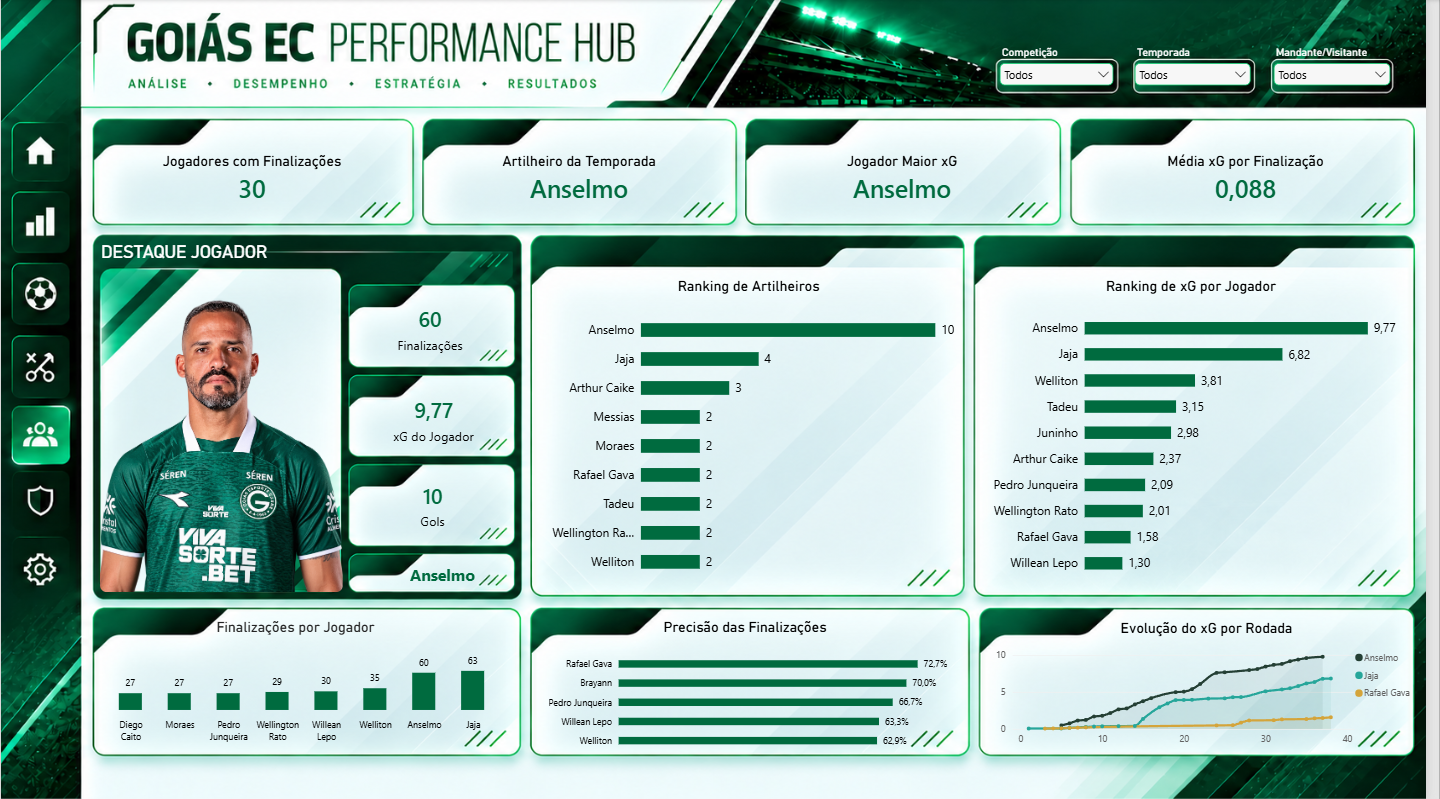

The page's visual inventory and layout, read from the dashboard file:
{"tool":"powerbi","page":{"name":"Análise Individual de Jogadores","canvas":[1920,1080],"ordinal":4},"visuals":[{"type":"cardVisual","fields":{"Data":["Medidas.Jogadores com Finalizações"]},"box":[126.8,176.6,423.8,131.6],"z":0},{"type":"cardVisual","fields":{"Data":["Medidas.Artilheiro da Temporada"]},"box":[566.7,176.6,423.8,131.6],"z":1000},{"type":"cardVisual","fields":{"Data":["Medidas.Jogador Maior xG"]},"box":[1001.7,176.6,423.8,131.6],"z":2000},{"type":"cardVisual","fields":{"Data":["Medidas.Média xG por Finalização"]},"box":[1444.8,176.6,462.3,131.6],"z":3000},{"type":"clusteredBarChart","title":"Ranking de Artilheiros","fields":{"Category":["fato_finalizacoes_2025.jogador"],"Y":["Medidas.Gols por Jogador"]},"box":[713.5,360.5,586.5,438.9],"z":4000},{"type":"clusteredBarChart","title":"Ranking de xG por Jogador","fields":{"Category":["fato_finalizacoes_2025.jogador"],"Y":["Medidas.xG por Jogador"]},"box":[1310,361.2,584.3,438.3],"z":5000},{"type":"card","fields":{"Values":["Medidas.Finalizações Anselmo"]},"box":[460,387.3,234.5,110.4],"z":6000},{"type":"textbox","box":[134.7,327.2,360.9,36.4],"z":8000},{"type":"clusteredColumnChart","title":"Finalizações por Jogador","fields":{"Category":["fato_finalizacoes_2025.jogador"],"Y":["Medidas.Finalizações por Jogador"]},"box":[98.3,820.1,596.6,199.3],"z":9000},{"type":"clusteredBarChart","title":"Precisão das Finalizações","fields":{"Category":["fato_finalizacoes_2025.jogador"],"Y":["Medidas.Precisão Jogador (Mín. 10)"]},"box":[713.6,819.9,576.6,211],"z":10000},{"type":"card","fields":{"Values":["Medidas.xG Anselmo"]},"box":[470.5,509.9,225.4,110.4],"z":11000},{"type":"card","fields":{"Values":["Medidas.Gols Anselmo"]},"box":[469,620.3,225.4,119.5],"z":12000},{"type":"lineChart","title":"Evolução do xG por Rodada","fields":{"Category":["fato_finalizacoes_2025.rodada"],"Series":["fato_finalizacoes_2025.jogador"],"Y":["Medidas.xG Acumulado por Jogador"]},"box":[1339.9,836.3,566.9,173.7],"z":13000},{"type":"textbox","box":[550.5,761.4,113.7,36.3],"z":17000},{"type":"actionButton","box":[20.9,370.8,59.3,48.5],"z":17001},{"type":"actionButton","title":"BTN_Performance_Coletiva","box":[25.6,277.4,59.3,55.2],"z":17002},{"type":"actionButton","title":"BTN_Home","box":[29.6,179.1,51.2,66],"z":17003},{"type":"slicer","fields":{"Values":["fato_partida_clube.temporada"]},"box":[1521.7,63.3,165.6,68.7],"z":17004},{"type":"slicer","fields":{"Values":["fato_partida_clube.mando"]},"box":[1708.9,63.3,167,75.4],"z":17005},{"type":"slicer","fields":{"Values":["fato_partida_clube.Competicao Exibicao"]},"box":[1339.9,63.3,162.9,113.1],"z":17006},{"type":"image","box":[134.6,362.8,325,436.9],"z":17007}]}

Visuals, with their boxes on the page's 1920x1080 design canvas (x1, y1, x2, y2). These are canvas units, not pixel positions in the 1440x799 screenshot, which may show the page scaled, cropped or inside an application window:
cardVisual - Medidas.Jogadores com Finalizações: x1=127 y1=177 x2=551 y2=308
cardVisual - Medidas.Artilheiro da Temporada: x1=567 y1=177 x2=990 y2=308
cardVisual - Medidas.Jogador Maior xG: x1=1002 y1=177 x2=1426 y2=308
cardVisual - Medidas.Média xG por Finalização: x1=1445 y1=177 x2=1907 y2=308
"Ranking de Artilheiros" clusteredBarChart: x1=714 y1=360 x2=1300 y2=799
"Ranking de xG por Jogador" clusteredBarChart: x1=1310 y1=361 x2=1894 y2=800
card - Medidas.Finalizações Anselmo: x1=460 y1=387 x2=694 y2=498
textbox: x1=135 y1=327 x2=496 y2=364
"Finalizações por Jogador" clusteredColumnChart: x1=98 y1=820 x2=695 y2=1019
"Precisão das Finalizações" clusteredBarChart: x1=714 y1=820 x2=1290 y2=1031
card - Medidas.xG Anselmo: x1=470 y1=510 x2=696 y2=620
card - Medidas.Gols Anselmo: x1=469 y1=620 x2=694 y2=740
"Evolução do xG por Rodada" lineChart: x1=1340 y1=836 x2=1907 y2=1010
textbox: x1=550 y1=761 x2=664 y2=798
actionButton: x1=21 y1=371 x2=80 y2=419
"BTN_Performance_Coletiva" actionButton: x1=26 y1=277 x2=85 y2=333
"BTN_Home" actionButton: x1=30 y1=179 x2=81 y2=245
slicer - fato_partida_clube.temporada: x1=1522 y1=63 x2=1687 y2=132
slicer - fato_partida_clube.mando: x1=1709 y1=63 x2=1876 y2=139
slicer - fato_partida_clube.Competicao Exibicao: x1=1340 y1=63 x2=1503 y2=176
image: x1=135 y1=363 x2=460 y2=800
